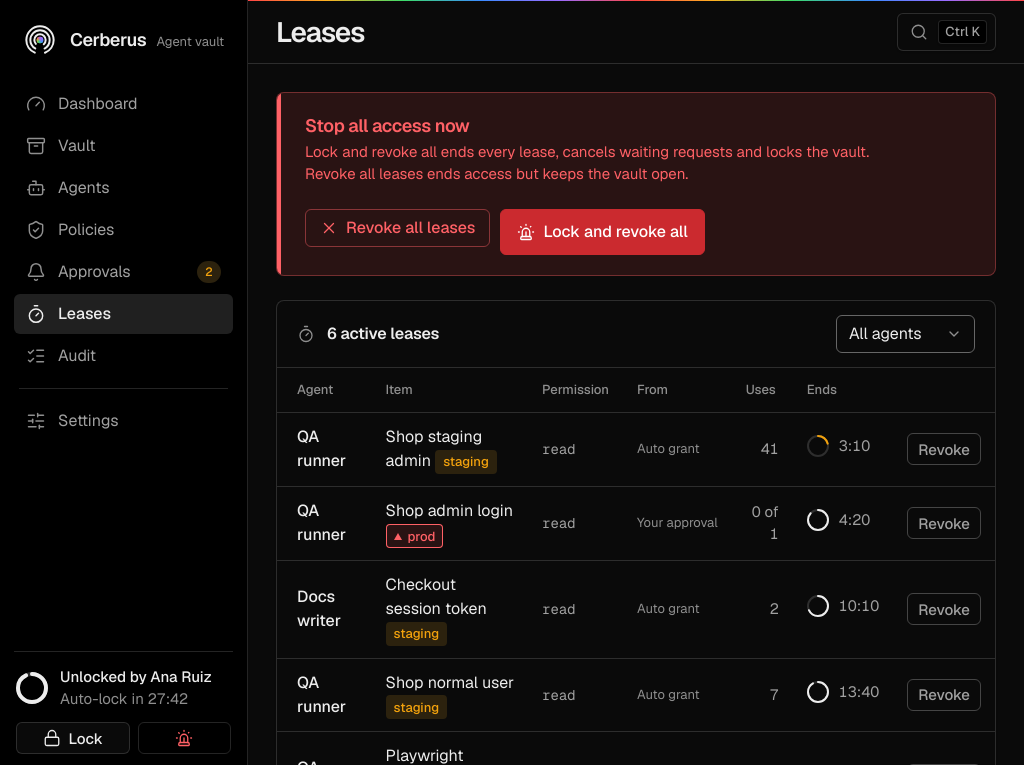
Leases screen › revokes all leases only after a confirm
Click the button "Revoke all leases" at (398,228), box [305,209,490,247]
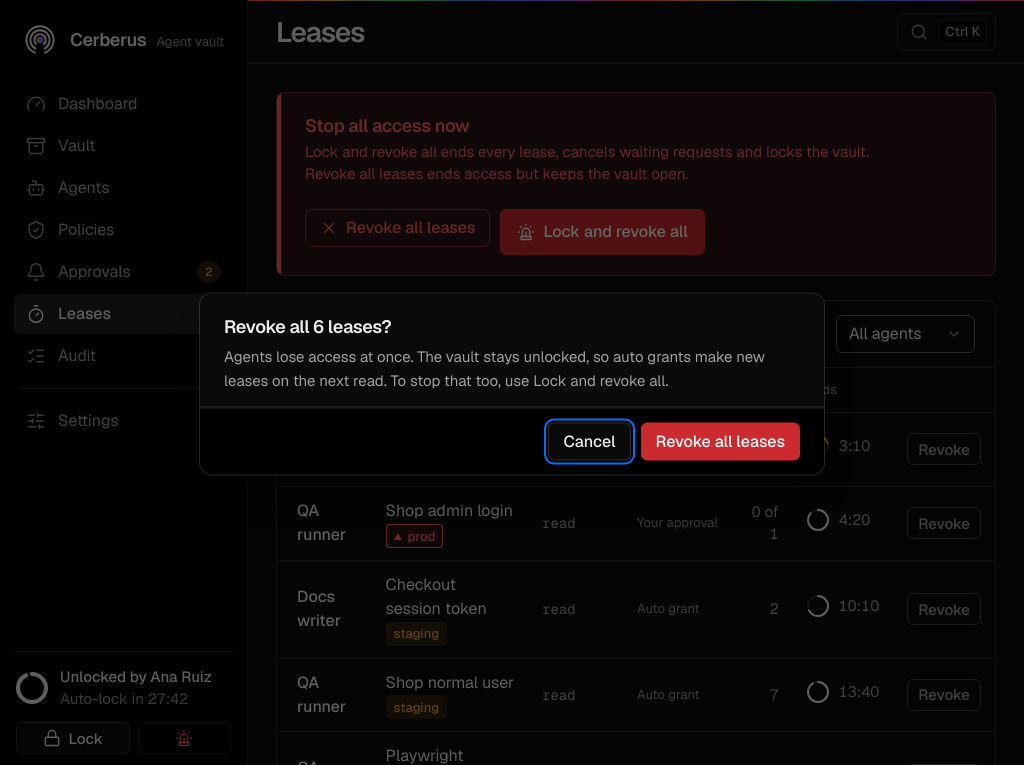
Click the button "Revoke all leases" at (720,442), box [641,422,800,460]
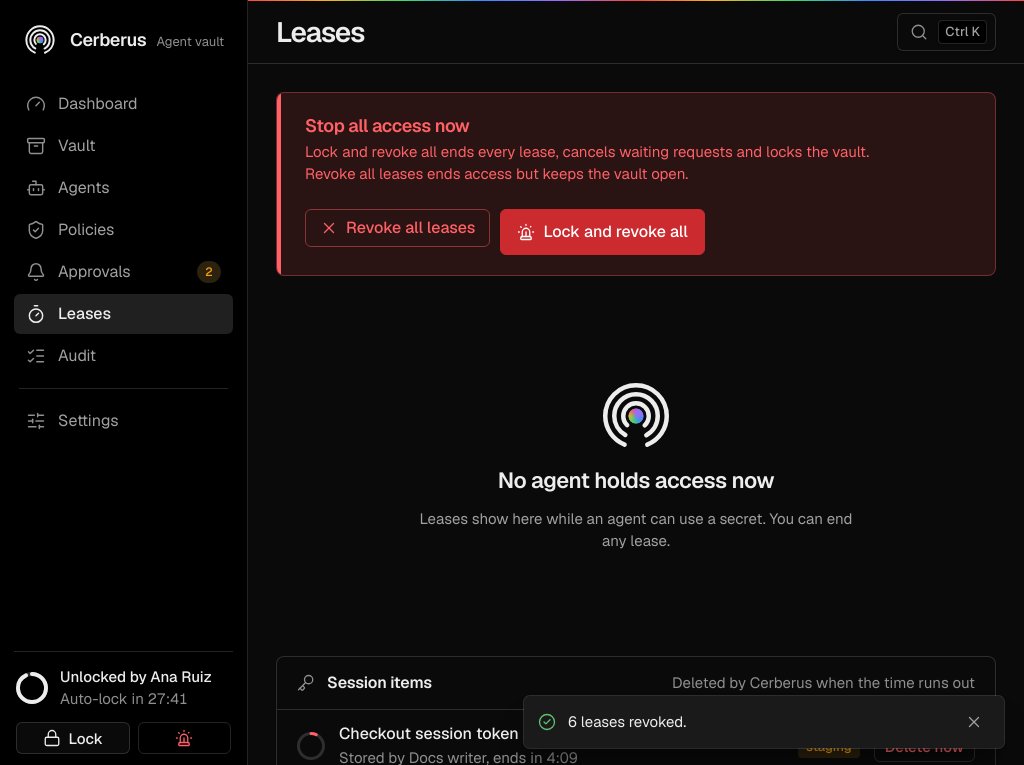
Expected: the text "6 leases revoked." is shown, [568,712,686,731]
Expected: the heading "No agent holds access now" is shown, [498,466,774,494]
